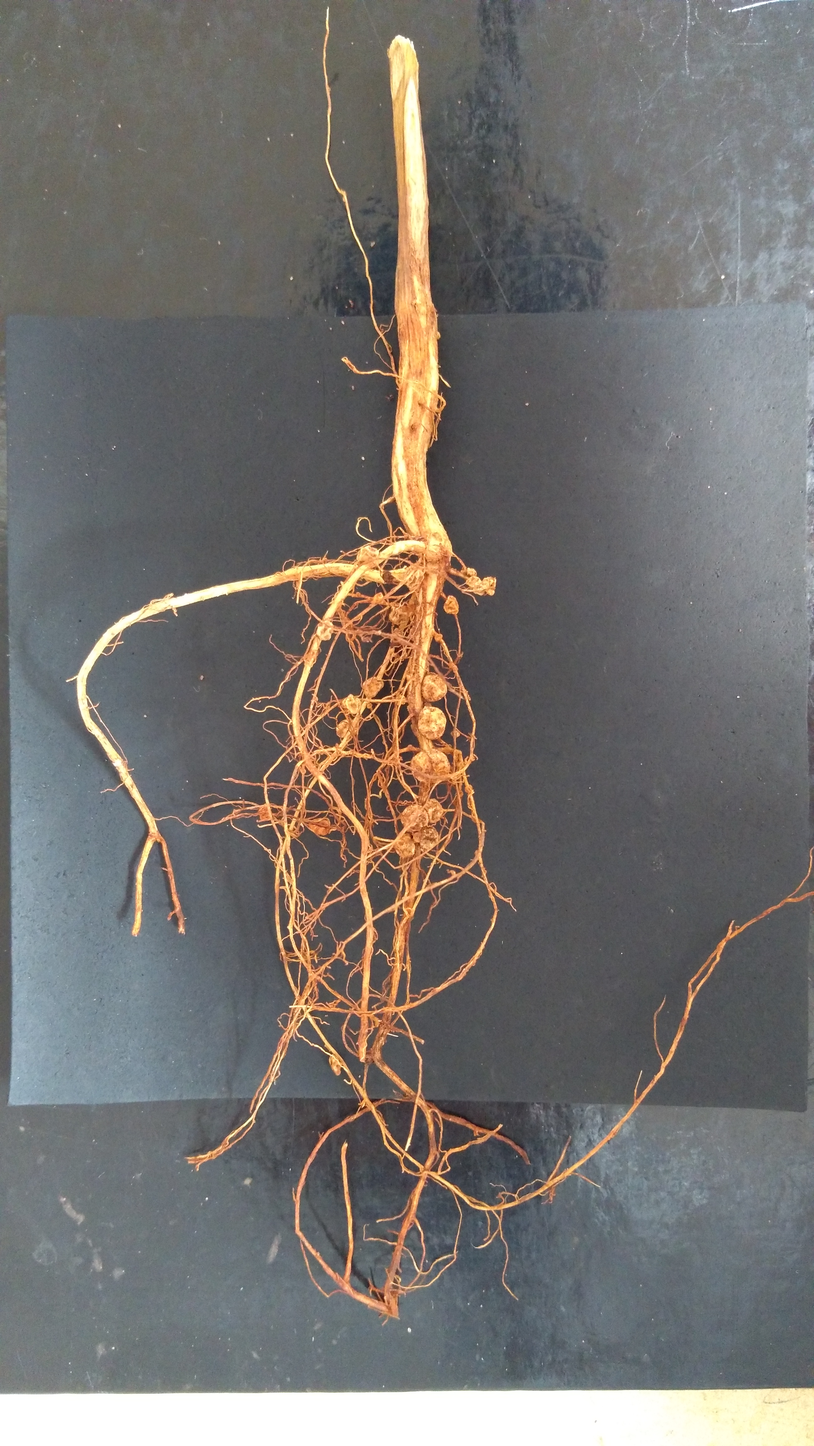nodule: (410, 748, 451, 784), (417, 706, 448, 740), (399, 804, 430, 832), (421, 673, 448, 702), (388, 601, 414, 625), (394, 832, 416, 858), (404, 564, 425, 591), (361, 676, 385, 699), (419, 824, 440, 850), (424, 798, 443, 824), (341, 694, 362, 715), (308, 817, 330, 837), (356, 545, 380, 563), (336, 719, 358, 738), (465, 576, 485, 596), (315, 620, 334, 641), (479, 576, 497, 597), (328, 1054, 344, 1076), (356, 625, 375, 643), (443, 595, 459, 615), (257, 803, 272, 823), (370, 592, 384, 604), (408, 625, 417, 641), (412, 830, 423, 843), (466, 566, 477, 578), (393, 627, 404, 639), (395, 695, 406, 706), (448, 660, 458, 671), (463, 784, 474, 794), (434, 633, 444, 642), (450, 730, 461, 738), (454, 789, 463, 797), (299, 767, 307, 775), (366, 701, 373, 710), (374, 629, 382, 636), (403, 532, 410, 539), (436, 330, 440, 340), (356, 591, 361, 596), (335, 743, 339, 748)
